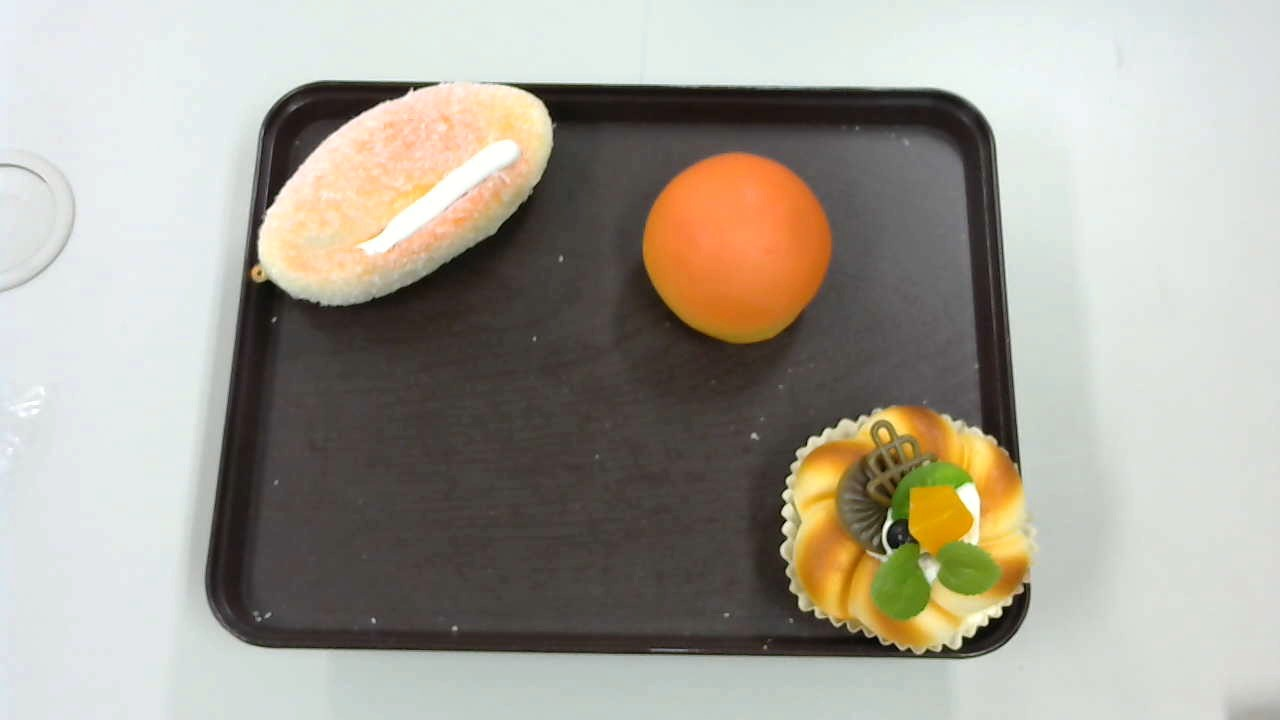bun: (643, 152, 832, 341)
coconut: (250, 82, 554, 306)
fruit tart: (781, 405, 1038, 654)
